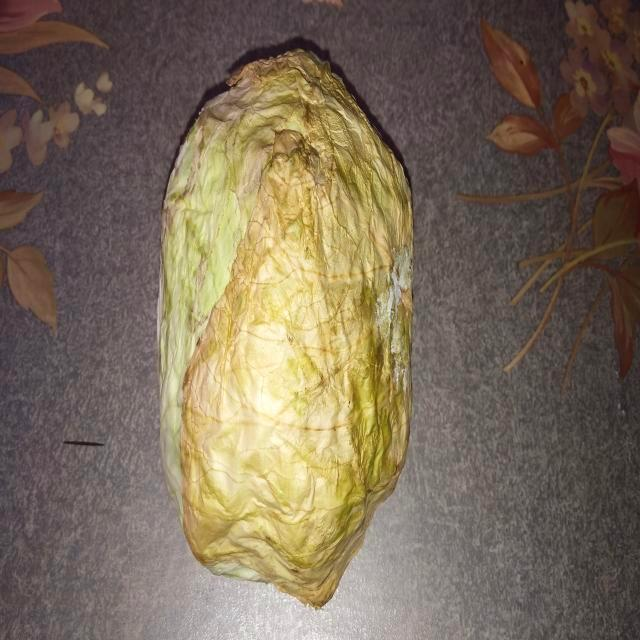cabbage: (150, 41, 421, 612)
